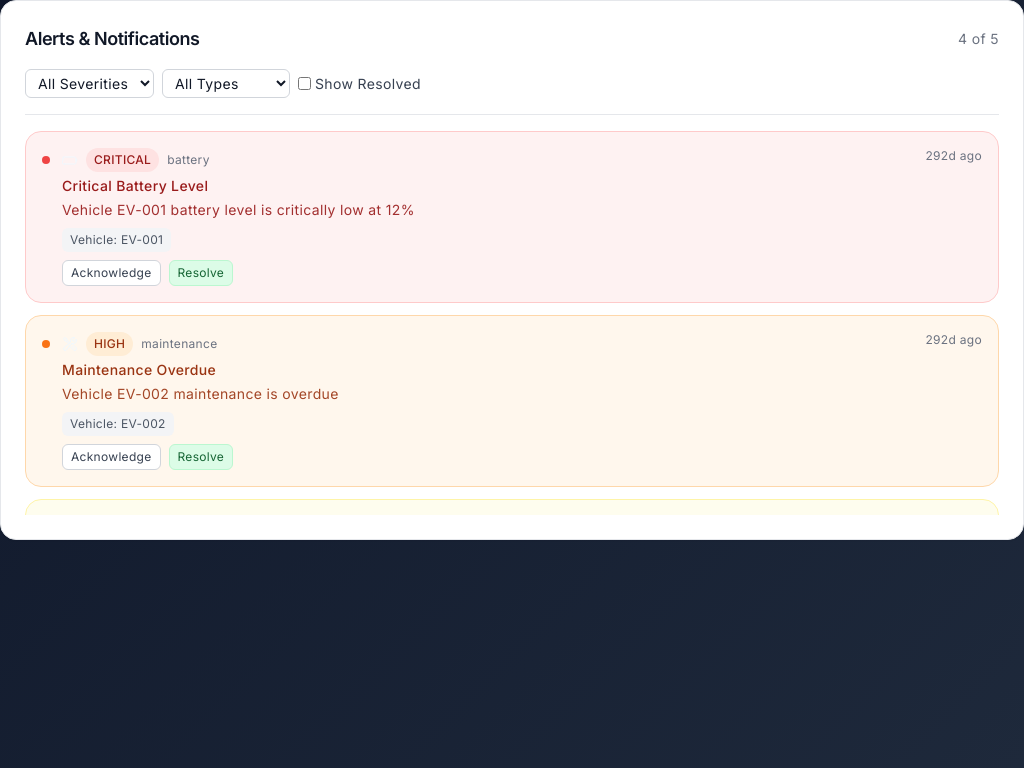
Test case: AlertPanel › Filtering › filters alerts by severity
The width and height of the screenshot is (1024, 768).
Select "Critical" in the 1st dropdown showing "All Severities" at (90, 84), box [25,69,154,98]
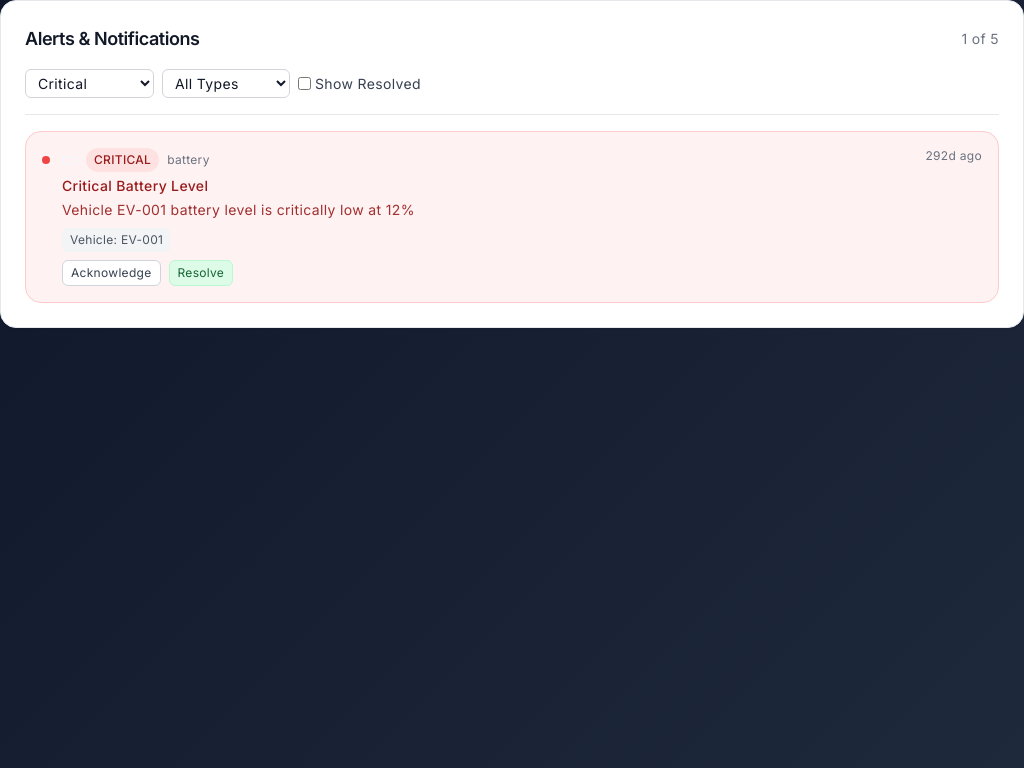
Expected: the heading "Critical Battery Level" is shown, [62,177,208,194]
Expected: the heading "Maintenance Overdue" is gone
